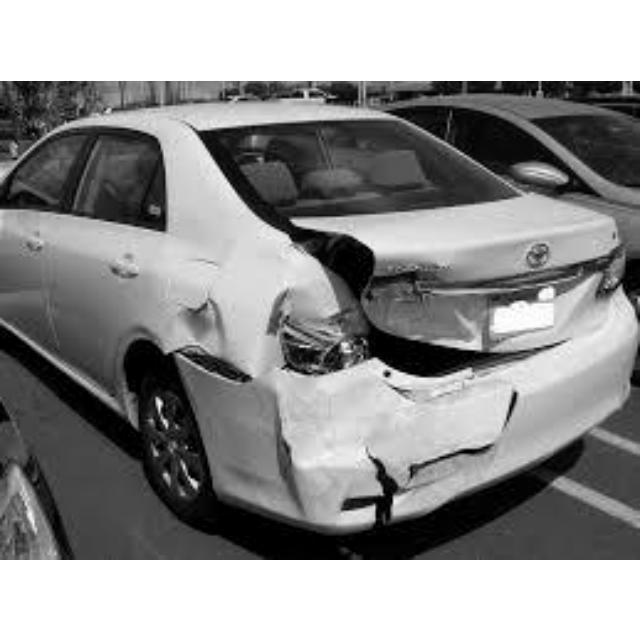boot-dent: (327, 241, 606, 369)
quaterpanel-dent: (122, 261, 299, 396)
rear-bumper-dent: (290, 395, 529, 528)
